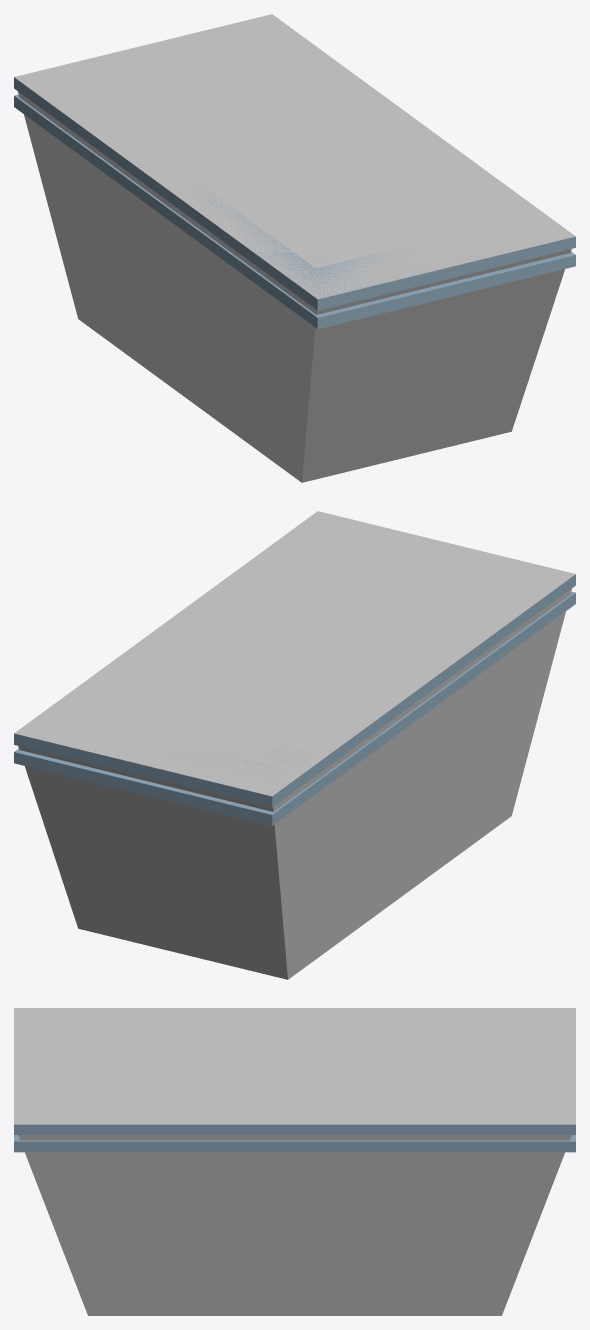
File: SM_Table_06.fbx
The picture shows the model from 3 angles, top to bottom: view 1: azimuth 30°, elevation 25°; view 2: azimuth 150°, elevation 25°; view 3: azimuth 270°, elevation 25°; orthographic projection. The views are drawn at different scales.
Parts seen in each view (by area): view 1: SM_Table_06_ConvexHulls, SM_Table_06; view 2: SM_Table_06_ConvexHulls, SM_Table_06; view 3: SM_Table_06_ConvexHulls, SM_Table_06.
Boxes of the visible parts, left/top/right/bottom form: SM_Table_06_ConvexHulls: left=14, top=14, right=575, bottom=482; SM_Table_06: left=14, top=77, right=575, bottom=329; SM_Table_06_ConvexHulls: left=14, top=511, right=575, bottom=979; SM_Table_06: left=14, top=574, right=575, bottom=826; SM_Table_06_ConvexHulls: left=14, top=1008, right=575, bottom=1315; SM_Table_06: left=14, top=1124, right=575, bottom=1152.
Size of the model in its own units: 98.12 by 200 by 79.4.
2 materials, 1 textured.
